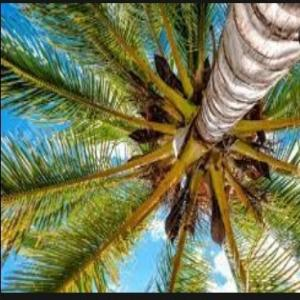palm tree: (0, 1, 299, 292)
